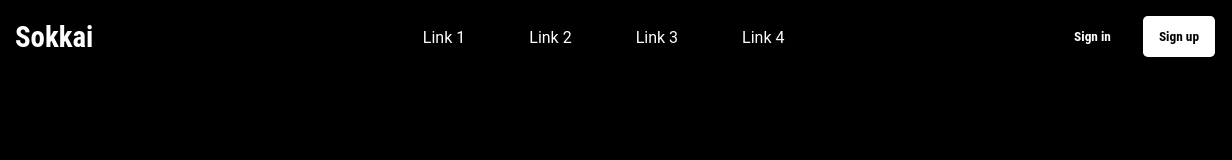
Scenario: Header component › Active link class is applied to a link after navigating to its page
Click the link with id "link-1-default": point(444, 37) [423,28,465,46]
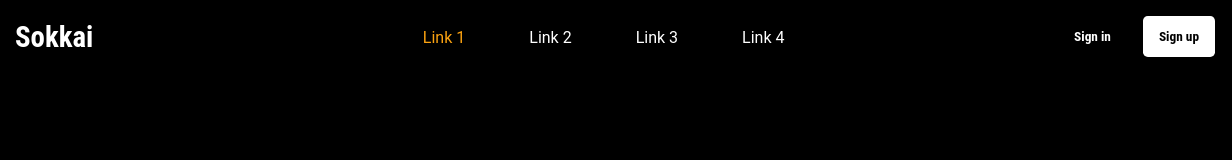
Now the link with class "activeLink" is shown, box [423,28,465,46]
